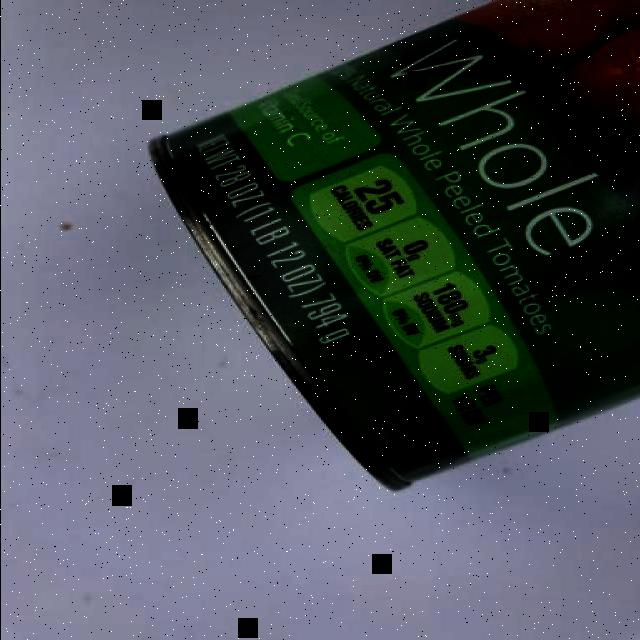can: (145, 1, 640, 496)
